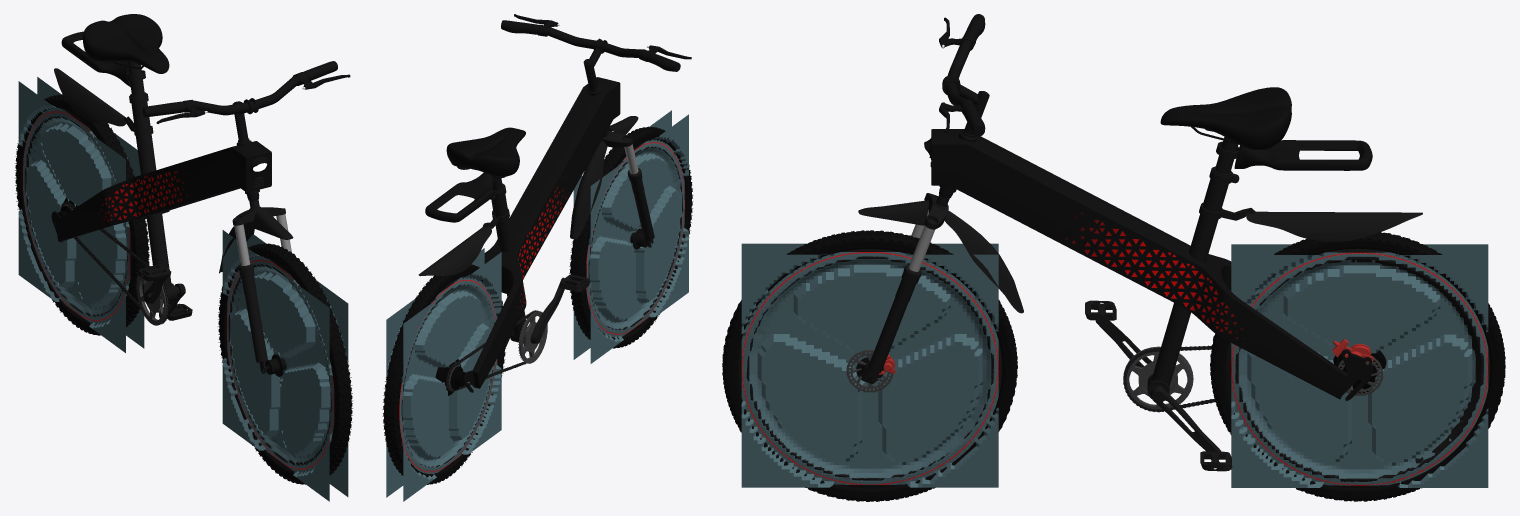
The model's file is 1st_graphics_1_red.glb.
3 renders of one model, left to right at view 1: azimuth 30°, elevation 25°; view 2: azimuth 150°, elevation 25°; view 3: azimuth 270°, elevation 25°, orthographic. The views are drawn at different scales.
Parts seen in each view (by area): view 1: W 1st graphics 1.001, frame, treads front, treads rear, seat, seat joint, handle bar, Part1, rear fender, Cube.008, fender front, 1st graphics 1 (+8 smaller); view 2: W 1st graphics 1.001, frame, treads rear, treads front, seat, handle bar, fender front, Cube.008, rear fender, Part1, seat joint, rear sprocket (+8 smaller); view 3: W 1st graphics 1.001, frame, treads front, treads rear, seat, seat joint, alloy wheel.001, rear fender, Cube.008, fender front, Part1, handle bar (+4 smaller).
Part boxes in pixels (bbox=[...]): W 1st graphics 1.001: bbox=[18, 77, 348, 501]; frame: bbox=[51, 141, 271, 242]; treads front: bbox=[218, 243, 352, 484]; treads rear: bbox=[15, 94, 149, 335]; seat: bbox=[83, 14, 169, 73]; seat joint: bbox=[126, 61, 179, 303]; handle bar: bbox=[142, 61, 350, 123]; Part1: bbox=[232, 199, 294, 373]; rear fender: bbox=[54, 68, 130, 126]; Cube.008: bbox=[61, 31, 130, 86]; fender front: bbox=[219, 208, 293, 273]; 1st graphics 1: bbox=[99, 169, 189, 222]; W 1st graphics 1.001: bbox=[386, 110, 688, 501]; frame: bbox=[463, 77, 619, 392]; treads rear: bbox=[382, 264, 506, 484]; treads front: bbox=[569, 126, 693, 348]; seat: bbox=[446, 127, 525, 178]; handle bar: bbox=[501, 14, 691, 71]; fender front: bbox=[570, 116, 638, 239]; Cube.008: bbox=[425, 172, 495, 222]; rear fender: bbox=[418, 225, 491, 276]; Part1: bbox=[602, 129, 654, 247]; seat joint: bbox=[490, 178, 527, 343]; rear sprocket: bbox=[518, 311, 547, 363]; W 1st graphics 1.001: bbox=[741, 243, 1488, 487]; frame: bbox=[932, 129, 1372, 400]; treads front: bbox=[722, 230, 1017, 501]; treads rear: bbox=[1210, 232, 1505, 501]; seat: bbox=[1160, 87, 1291, 149]; seat joint: bbox=[1147, 136, 1239, 398]; alloy wheel.001: bbox=[1225, 248, 1490, 488]; rear fender: bbox=[1246, 211, 1422, 241]; Cube.008: bbox=[1234, 140, 1372, 170]; fender front: bbox=[858, 200, 1023, 313]; Part1: bbox=[865, 193, 949, 384]; handle bar: bbox=[939, 14, 985, 136].
Bounding box in the file's own units: 0.6041 × 1.07 × 1.77.
Materials: 13 (2 with a texture image).
